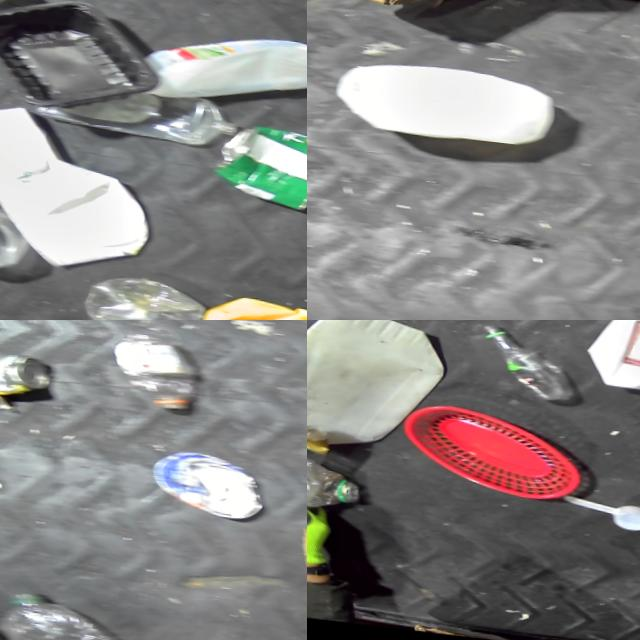can: (314, 50, 573, 154), (200, 121, 307, 216), (141, 445, 260, 521), (0, 342, 47, 402)
milk_jug: (135, 21, 307, 123), (0, 154, 149, 270), (571, 320, 640, 401), (0, 91, 43, 206)
plastic_bottle: (24, 80, 234, 146), (97, 320, 211, 409), (463, 321, 568, 398), (0, 587, 141, 640), (307, 424, 329, 523)
